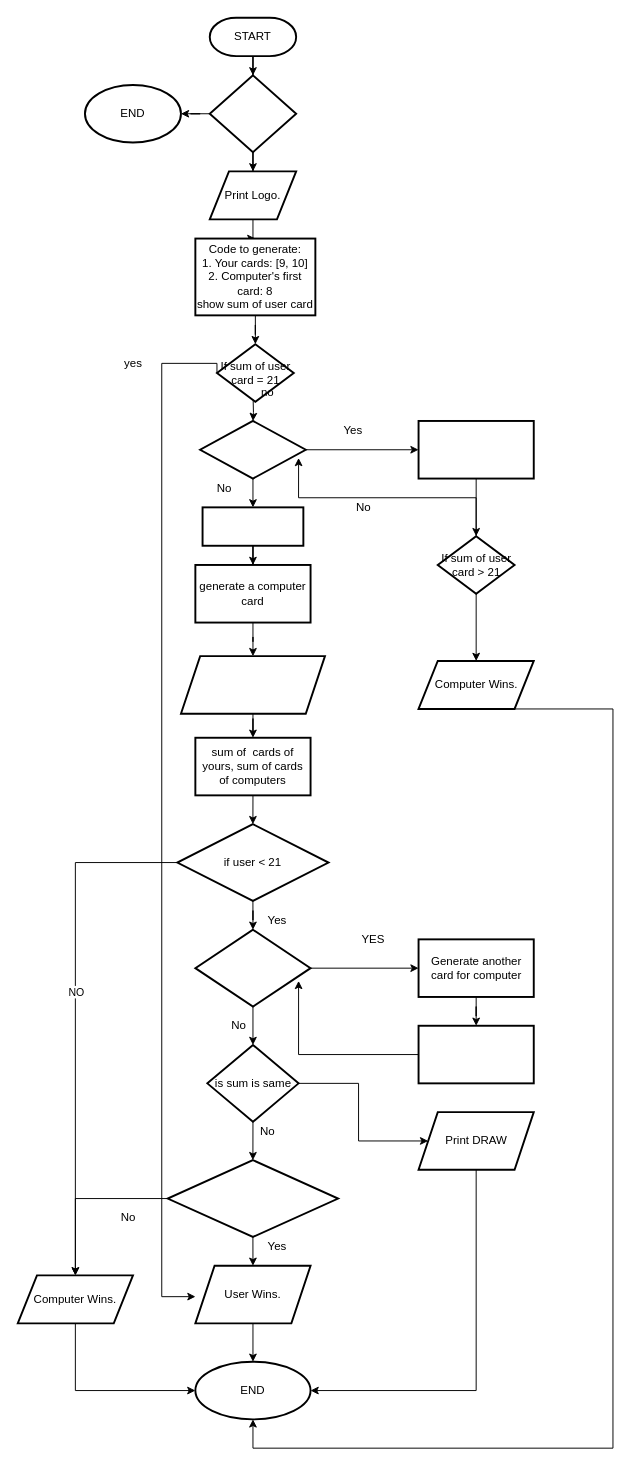
This 637x1473 diagram has some shape labels left out. Each missing label, with the box of its shape:
generate another card.: (417, 420, 534, 479)
generate another computer card.: (201, 506, 304, 546)
If computer < 17: (194, 928, 311, 1007)
if user greater than computer: (166, 1159, 339, 1237)
Play?: (208, 74, 297, 153)
Print Your Final hand, Computer's final hand.: (180, 655, 325, 714)
sum of comp cards: (417, 1024, 534, 1084)
Want to get another card?: (199, 420, 306, 479)
